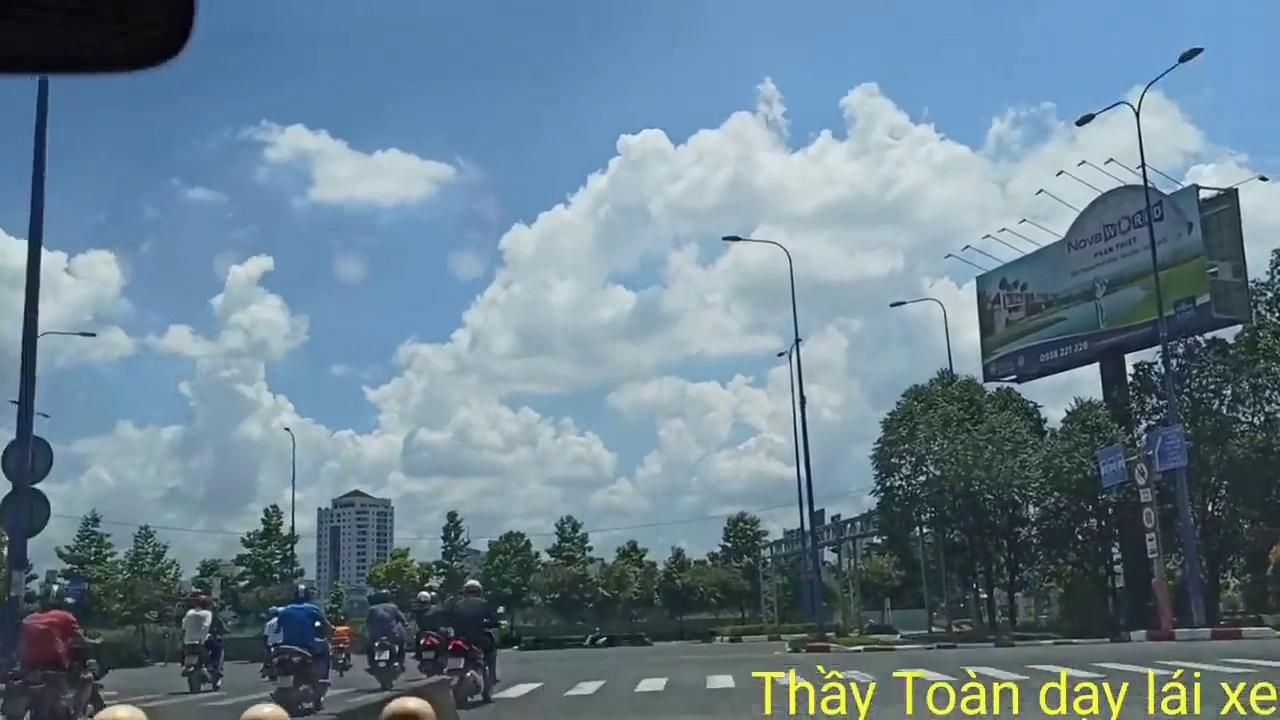Biển phụ: (1144, 531, 1160, 560)
Chỉ hướng đường: (1148, 428, 1191, 472)
Cấm xe máy: (1132, 460, 1152, 488)
Làn đường cho từng xe: (1097, 444, 1129, 488)
